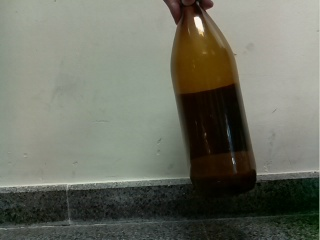pote cristal: (170, 1, 258, 192)
